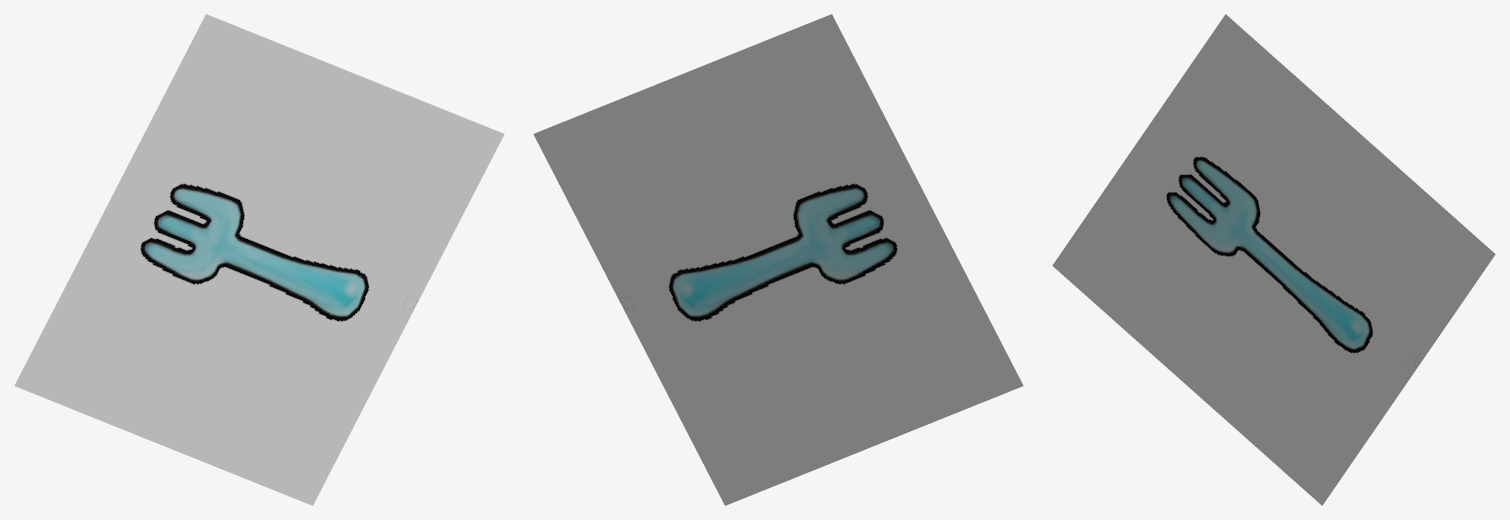
Rendered from forks.FBX.
3 views of the same model, side by side, from view 1: azimuth 30°, elevation 25°; view 2: azimuth 150°, elevation 25°; view 3: azimuth 330°, elevation 25° (orthographic). The views are drawn at different scales.
Parts seen in each view (by area): view 1: Plane006; view 2: Plane006; view 3: Plane006.
Part boxes in pixels (bbox=[...]): Plane006: bbox=[14, 14, 504, 505]; Plane006: bbox=[533, 14, 1023, 505]; Plane006: bbox=[1052, 14, 1495, 505].
Size of the model in its own units: 41.14 by 41.53 by 3.92e-06.
1 material, 1 textured.
